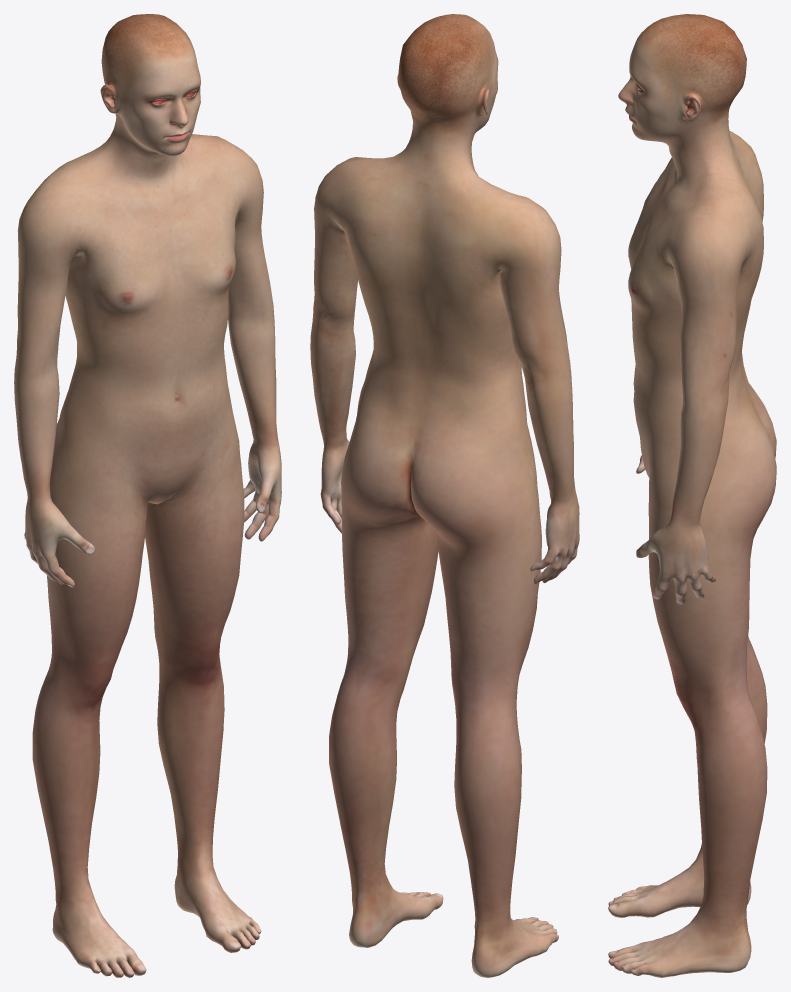
File: body.gltf
3 views of the same model, side by side, from view 1: azimuth 30°, elevation 25°; view 2: azimuth 150°, elevation 25°; view 3: azimuth 270°, elevation 25° (orthographic).
Parts seen in each view (by area): view 1: body; view 2: body; view 3: body.
Part boxes in pixels (<box>): body: <box>14,14,281,977</box>; body: <box>310,14,579,977</box>; body: <box>608,14,776,977</box>.
Size of the model in its own units: 0.4887 by 1.68 by 0.2788.
Materials: 1 (1 with a texture image).
